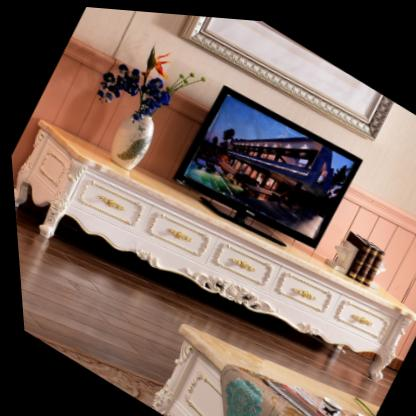TV stand: (5, 78, 416, 416)
Wooden floor: (13, 220, 231, 365)
